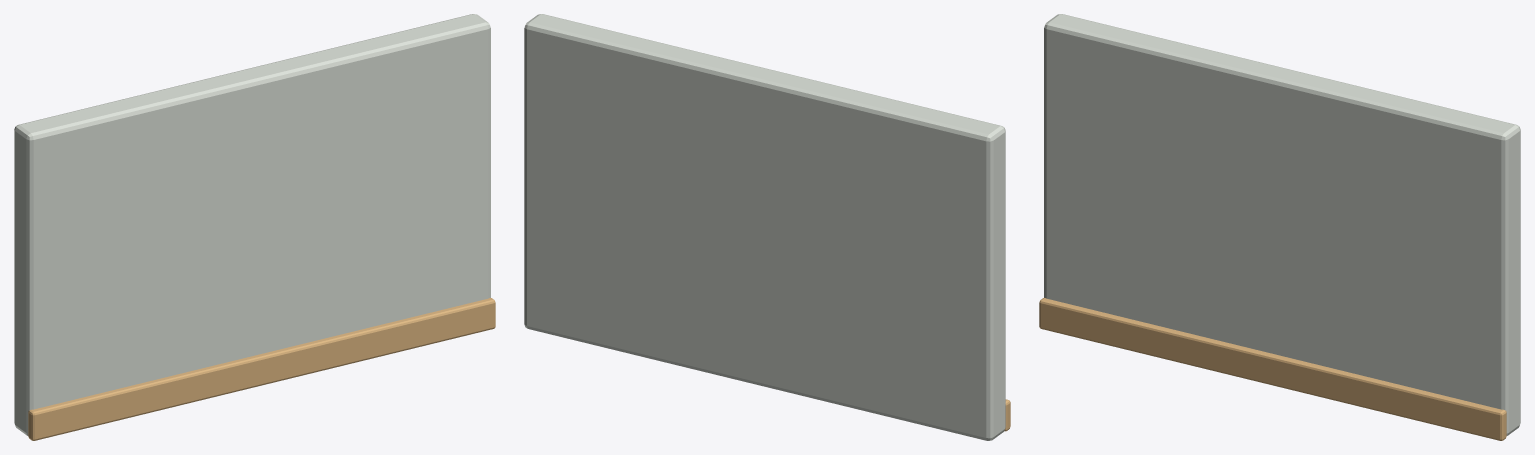
File: KitchenWall.fbx
The picture shows the model from 3 angles, left to right: view 1: azimuth 30°, elevation 25°; view 2: azimuth 150°, elevation 25°; view 3: azimuth 330°, elevation 25°; orthographic projection.
Parts seen in each view (by area): view 1: Wall, WallTrim; view 2: Wall; view 3: Wall, WallTrim.
Part boxes in pixels (left/top/right/bottom): Wall: left=14, top=14, right=490, bottom=435; WallTrim: left=28, top=298, right=495, bottom=440; Wall: left=524, top=14, right=1005, bottom=440; Wall: left=1044, top=14, right=1520, bottom=435; WallTrim: left=1039, top=298, right=1506, bottom=440.
Size of the model in its own units: 4 by 2.5 by 0.305.
